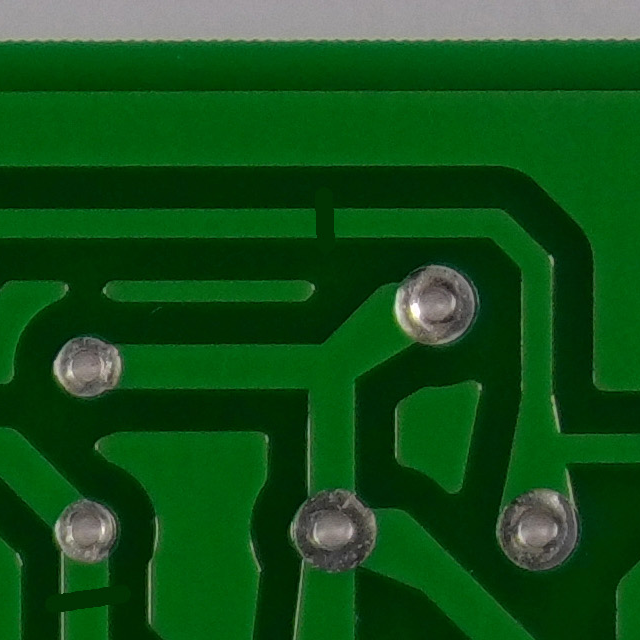open_circuit: (47, 573, 128, 629), (293, 187, 347, 253)
